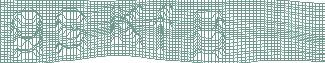9: (8, 9, 45, 60)
B: (192, 8, 227, 62)
K: (109, 3, 146, 50)
S: (53, 7, 89, 57)
f: (149, 3, 177, 54)
